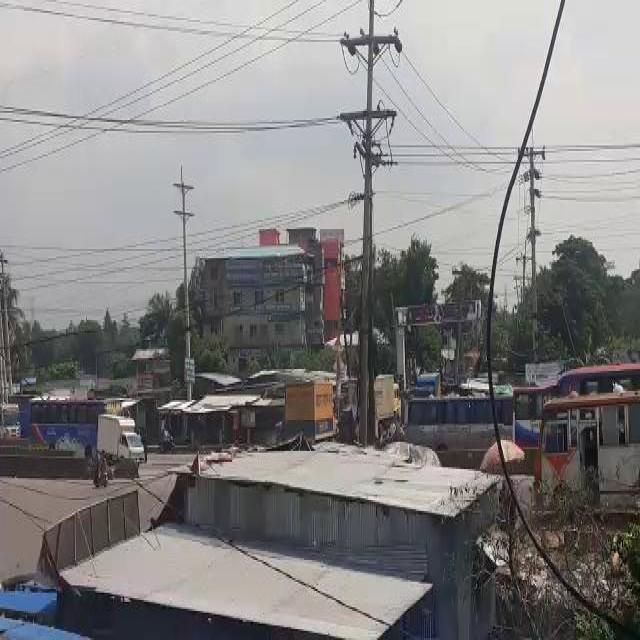11: (96, 410, 144, 474)
Truck: (536, 401, 638, 501), (404, 397, 514, 461), (28, 396, 94, 462), (0, 402, 20, 438)
